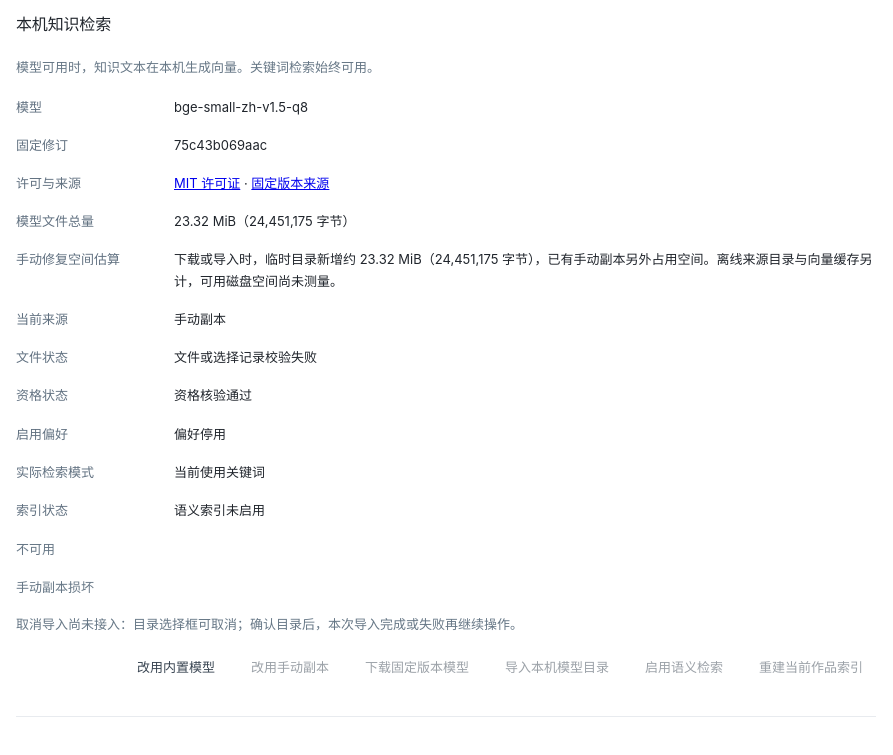
手动来源损坏不显示语义可用，换源失败保留当前来源和偏好
The width and height of the screenshot is (893, 755).
Check: the text "手动副本损坏" is shown, box [16,578,94,594]
Step 1. Click the button "改用内置模型" → click(176, 667), box [124,650,228,684]
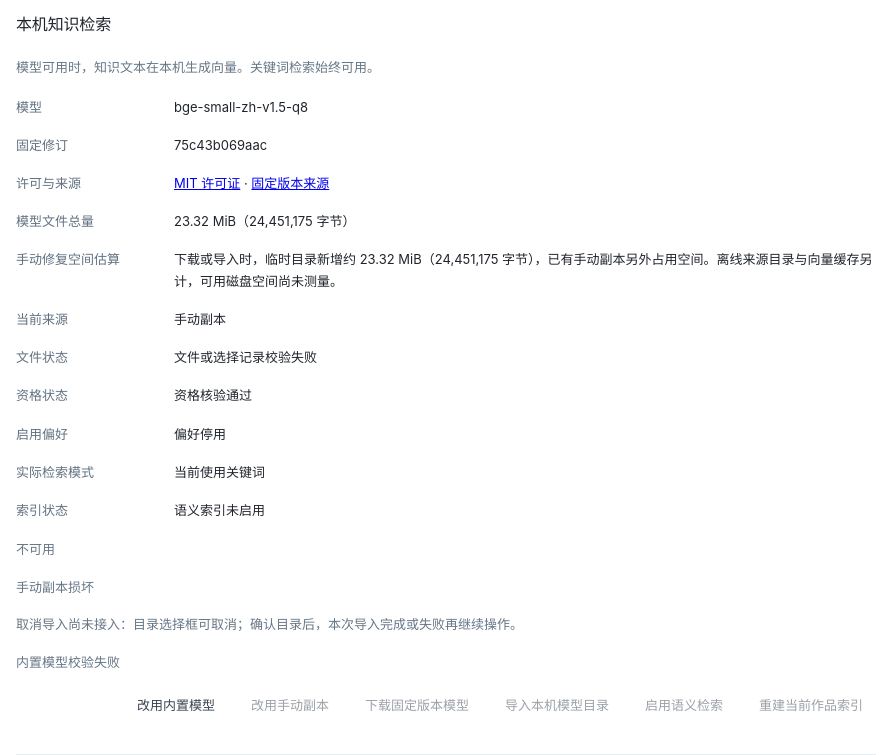
Check: the text "手动副本" is shown, box [174,311,226,327]
Check: the message "内置模型校验失败" is shown, box [16,654,120,670]
